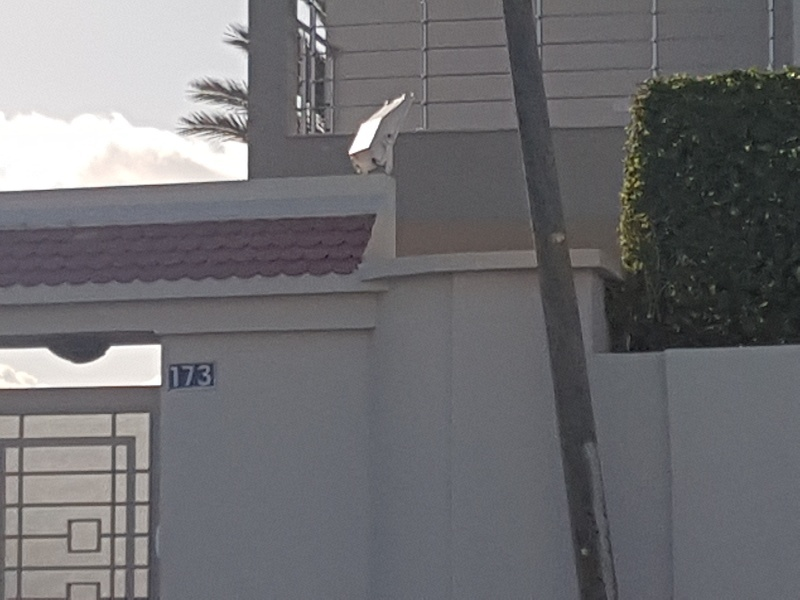text: (177, 364, 192, 389), (193, 364, 208, 389), (171, 364, 176, 389), (209, 364, 214, 389)
